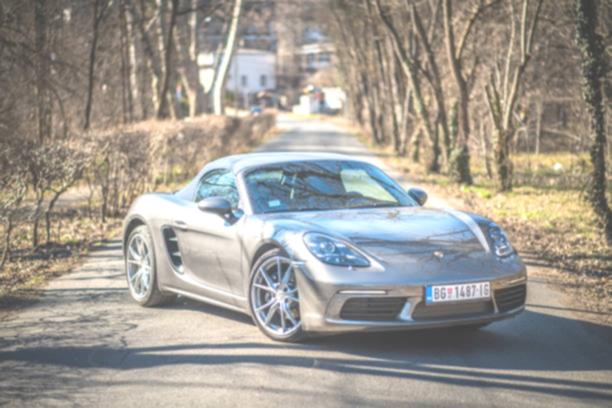porsche: (431, 247, 445, 261)
